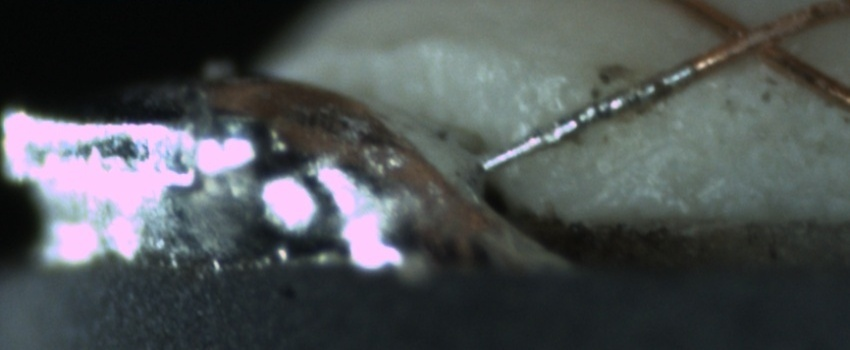CL: (706, 9, 806, 75)
TS: (478, 64, 686, 171)
TTCW: (476, 41, 730, 168)
